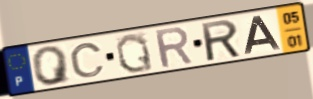A: (242, 14, 283, 55)
C: (68, 41, 107, 79)
Q: (30, 44, 73, 87), (114, 32, 156, 75)
R: (199, 17, 243, 63), (152, 25, 195, 71)
